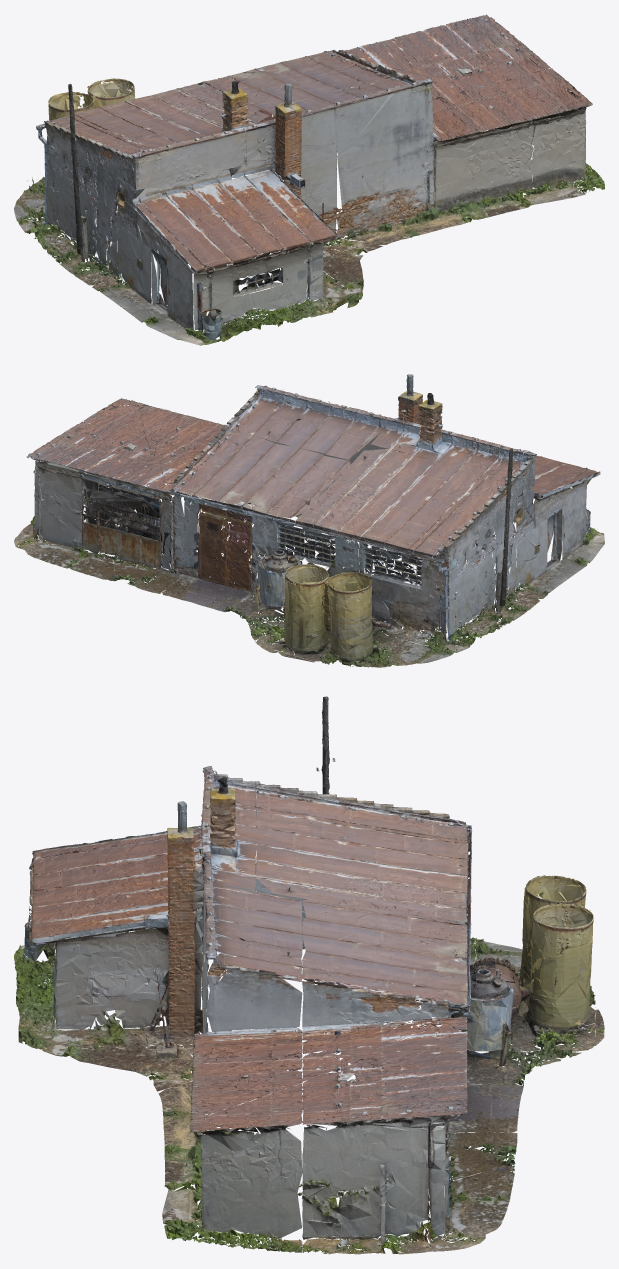
File: industrial_building.glb
The picture shows the model from 3 angles, top to bottom: view 1: azimuth 30°, elevation 25°; view 2: azimuth 150°, elevation 25°; view 3: azimuth 270°, elevation 25°; orthographic projection. The views are drawn at different scales.
Parts seen in each view (by area): view 1: hara; view 2: hara; view 3: hara.
Part boxes in pixels (left/top/right/bottom): hara: left=14, top=14, right=604, bottom=345; hara: left=14, top=374, right=604, bottom=667; hara: left=14, top=696, right=604, bottom=1254.
Bounding box in the file's own units: 19.23 × 6.81 × 14.88.
Materials: 7 (7 with a texture image).
